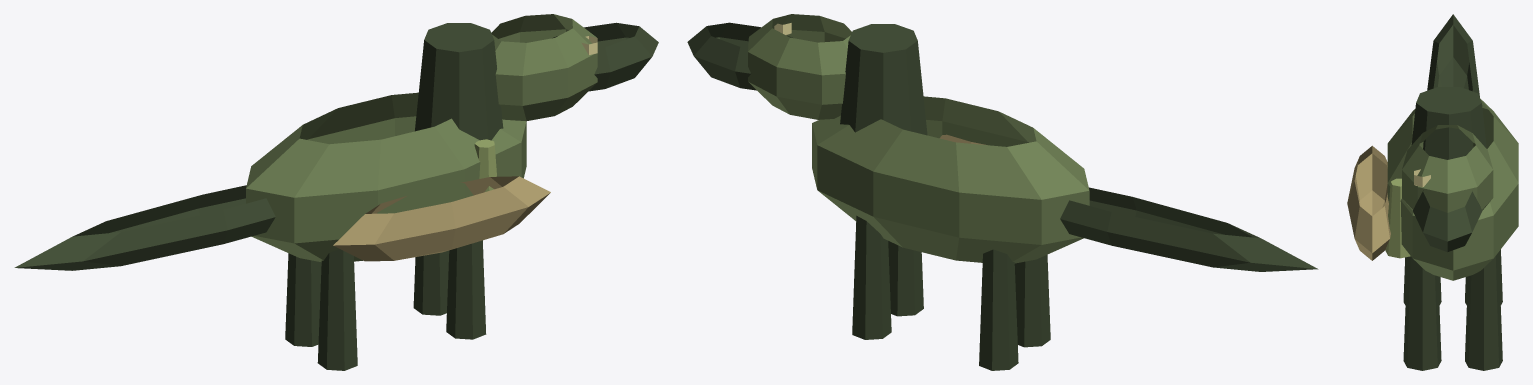
The model's file is raptor.obj.
The picture shows the model from 3 angles, left to right: view 1: azimuth 30°, elevation 25°; view 2: azimuth 150°, elevation 25°; view 3: azimuth 270°, elevation 25°; orthographic projection. The views are drawn at different scales.
Visible parts, largest first — view 1: raptor; view 2: raptor; view 3: raptor.
Boxes of the visible parts, x1=… form: raptor: x1=14, y1=14, x2=658, y2=370; raptor: x1=687, y1=14, x2=1318, y2=370; raptor: x1=1347, y1=14, x2=1518, y2=370.
Bounding box in the file's own units: 5 × 2.1 × 1.23.
